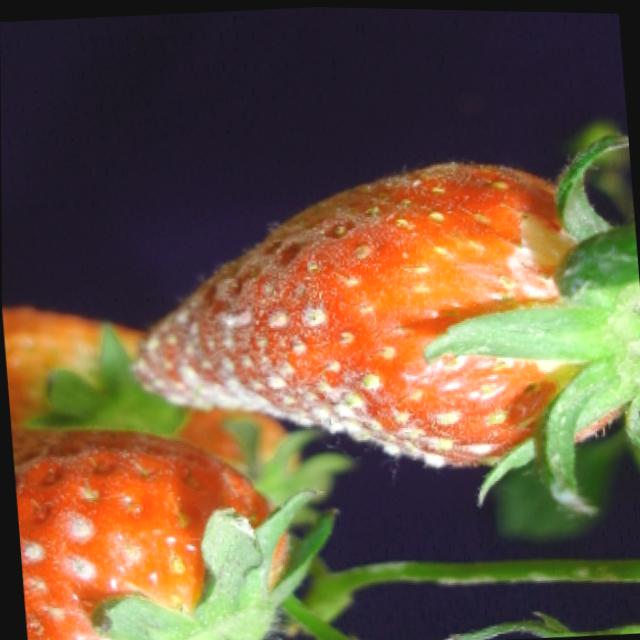Powdery Mildew Fruit: (128, 159, 640, 467), (13, 450, 283, 640)
